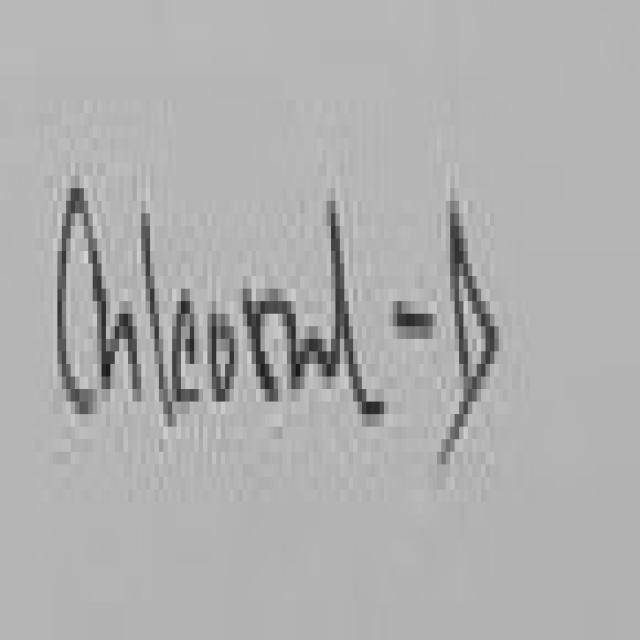C: (44, 138, 96, 466)
D: (434, 146, 509, 467)
a: (93, 198, 141, 434), (282, 286, 328, 390)
c: (166, 276, 203, 423)
l: (321, 158, 387, 466), (140, 175, 176, 432)
o: (205, 283, 242, 416)
r: (236, 261, 287, 415)
